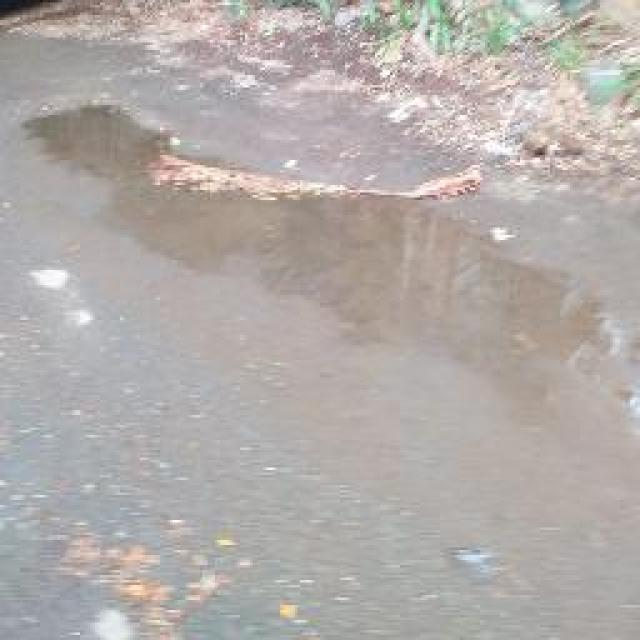stagnation: (129, 92, 640, 422)
